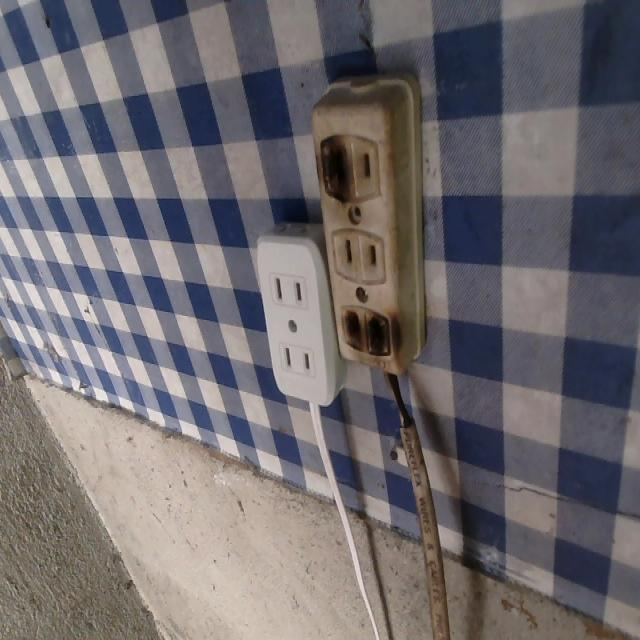-: (335, 300, 401, 373), (312, 131, 356, 201)
